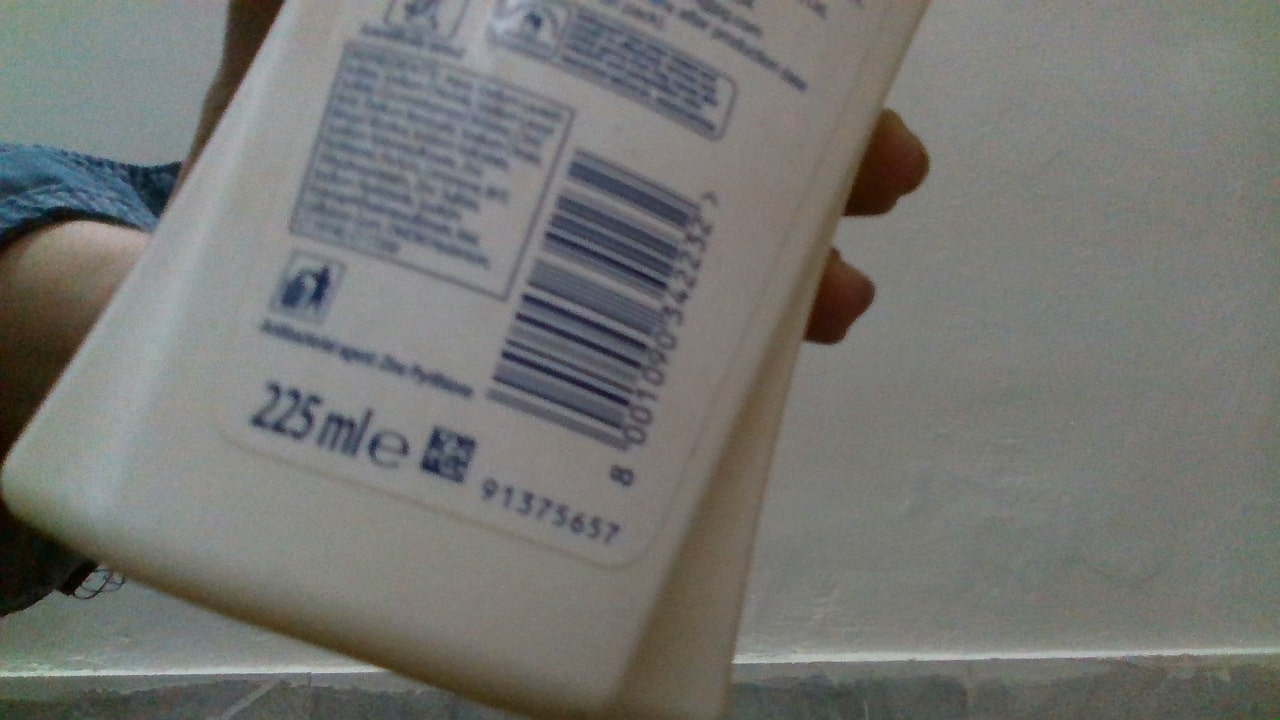Barcode: (478, 139, 715, 458)
